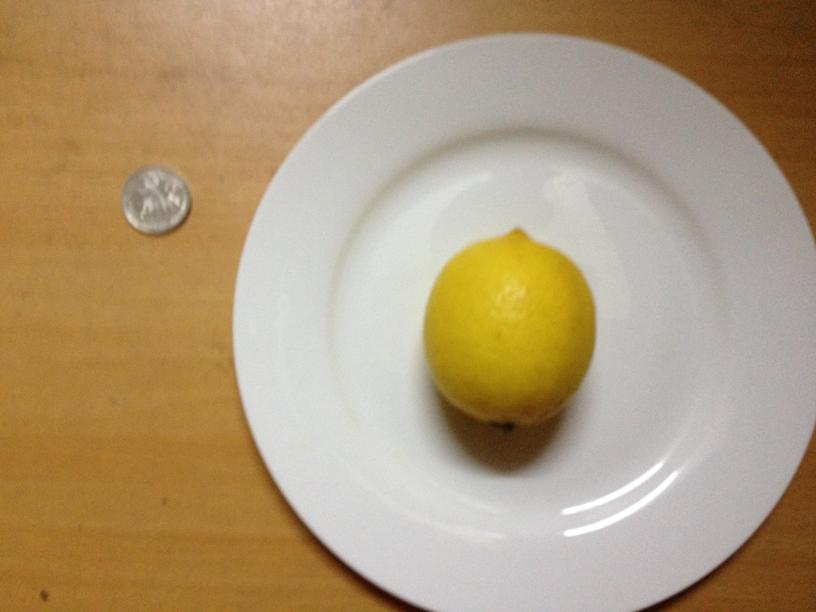coin: (123, 165, 187, 232)
lemon: (423, 235, 595, 424)
